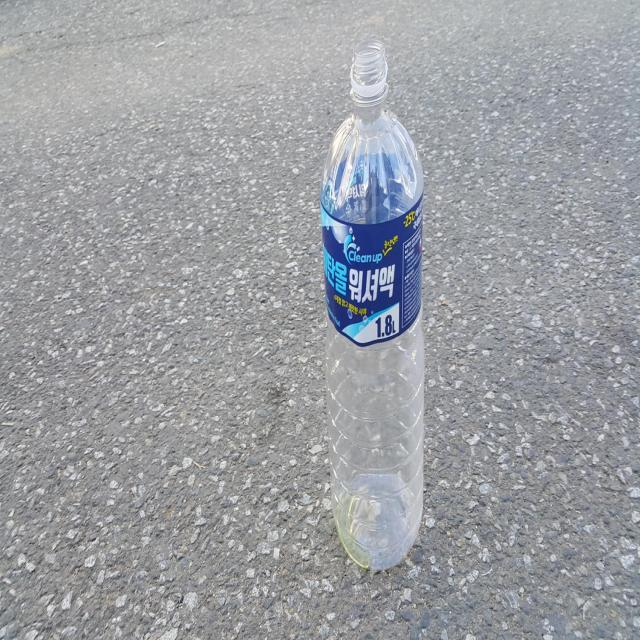plastic: (321, 38, 425, 572)
